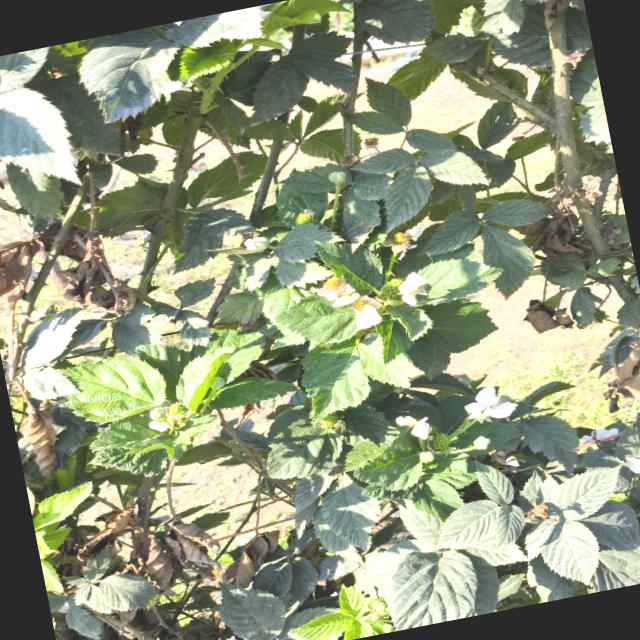boton: (244, 236, 270, 253), (328, 171, 347, 184), (473, 436, 490, 449), (150, 407, 167, 420), (419, 451, 434, 464)
flor: (465, 386, 517, 422), (317, 276, 359, 307), (398, 272, 427, 306), (356, 305, 382, 330), (410, 417, 436, 442), (396, 416, 416, 427)
verde: (166, 403, 187, 428), (433, 434, 451, 451), (296, 210, 315, 225)
